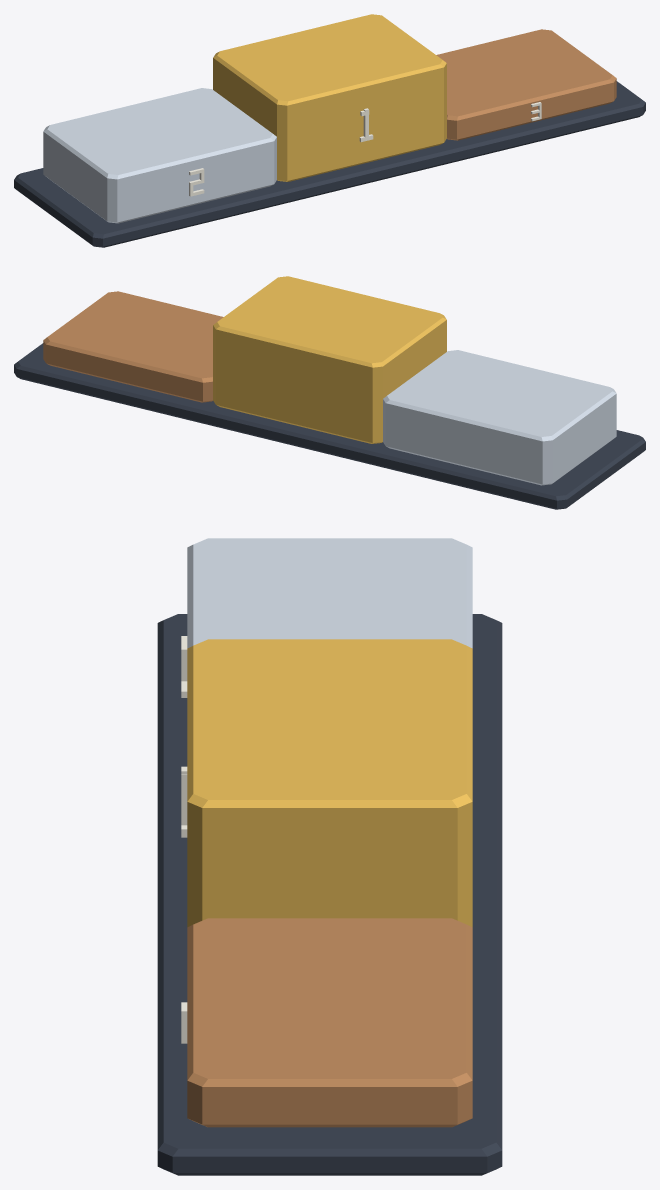
The model's file is podium.glb.
3 views of the same model, one above another, from view 1: azimuth 30°, elevation 25°; view 2: azimuth 150°, elevation 25°; view 3: azimuth 270°, elevation 25° (orthographic). The views are drawn at different scales.
Parts seen in each view (by area): view 1: first_gold, second_silver, podium_base, third_bronze; view 2: first_gold, second_silver, podium_base, third_bronze; view 3: first_gold, third_bronze, podium_base, second_silver.
Part boxes in pixels (box(x1,y1,x2,y2)): first_gold: box(213, 14, 446, 181); second_silver: box(43, 88, 276, 223); podium_base: box(14, 81, 645, 247); third_bronze: box(436, 29, 616, 140); first_gold: box(213, 276, 446, 443); second_silver: box(383, 350, 616, 485); podium_base: box(14, 343, 645, 509); third_bronze: box(43, 291, 223, 402); first_gold: box(187, 639, 472, 927); third_bronze: box(187, 918, 472, 1127); podium_base: box(157, 614, 502, 1175); second_silver: box(187, 538, 472, 648).
Bounding box in the file's own units: 430 × 70 × 116.
